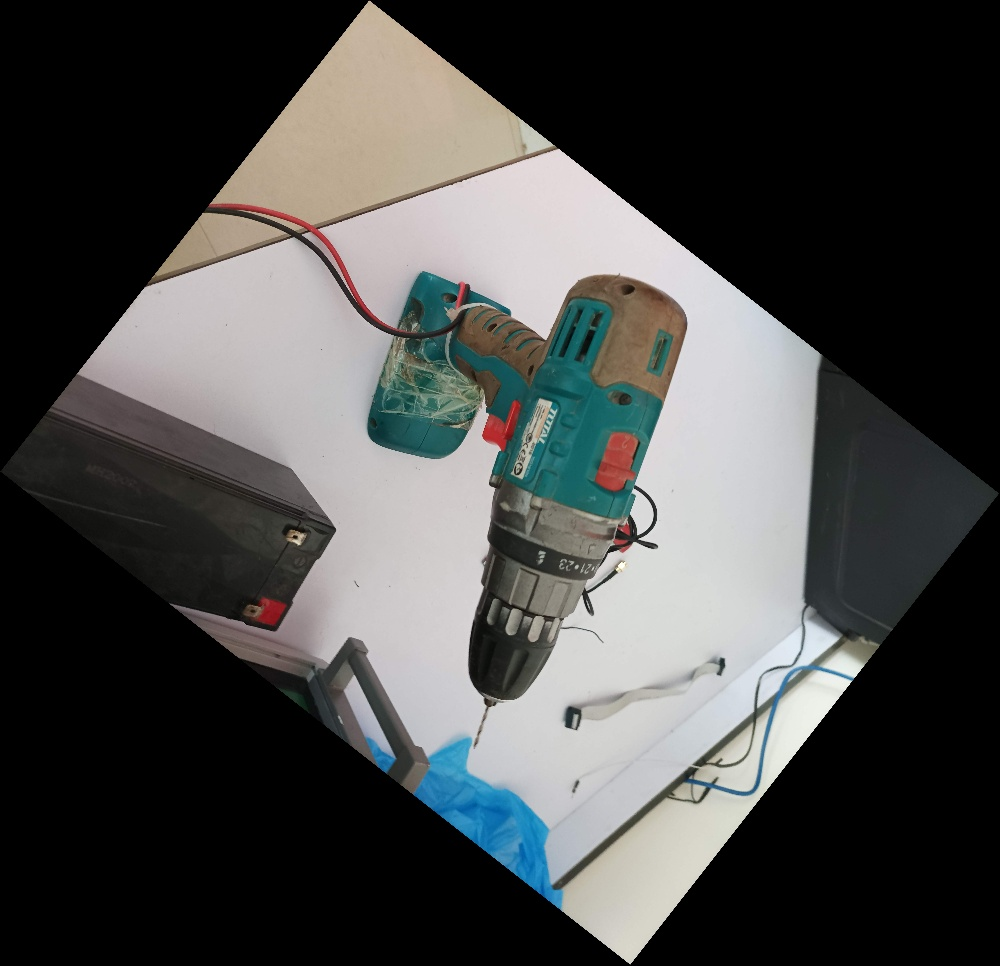driller: (361, 265, 693, 750)
